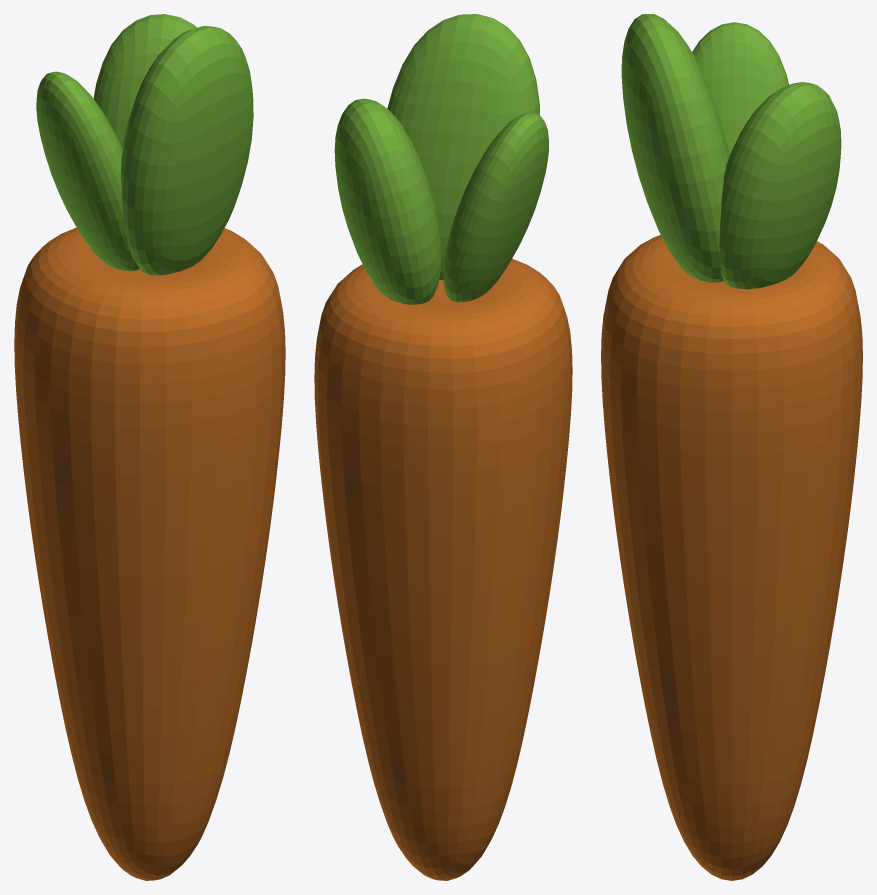
The model's file is carrot_model_1.fbx.
The picture shows the model from 3 angles, left to right: view 1: azimuth 30°, elevation 25°; view 2: azimuth 150°, elevation 25°; view 3: azimuth 270°, elevation 25°; orthographic projection. The views are drawn at different scales.
Visible parts, largest first — view 1: Model; view 2: Model; view 3: Model.
Part boxes in pixels (<box>): Model: <box>14,14,285,880</box>; Model: <box>314,14,572,880</box>; Model: <box>601,14,862,880</box>.
Size of the model in its own units: 275 by 998 by 275.
